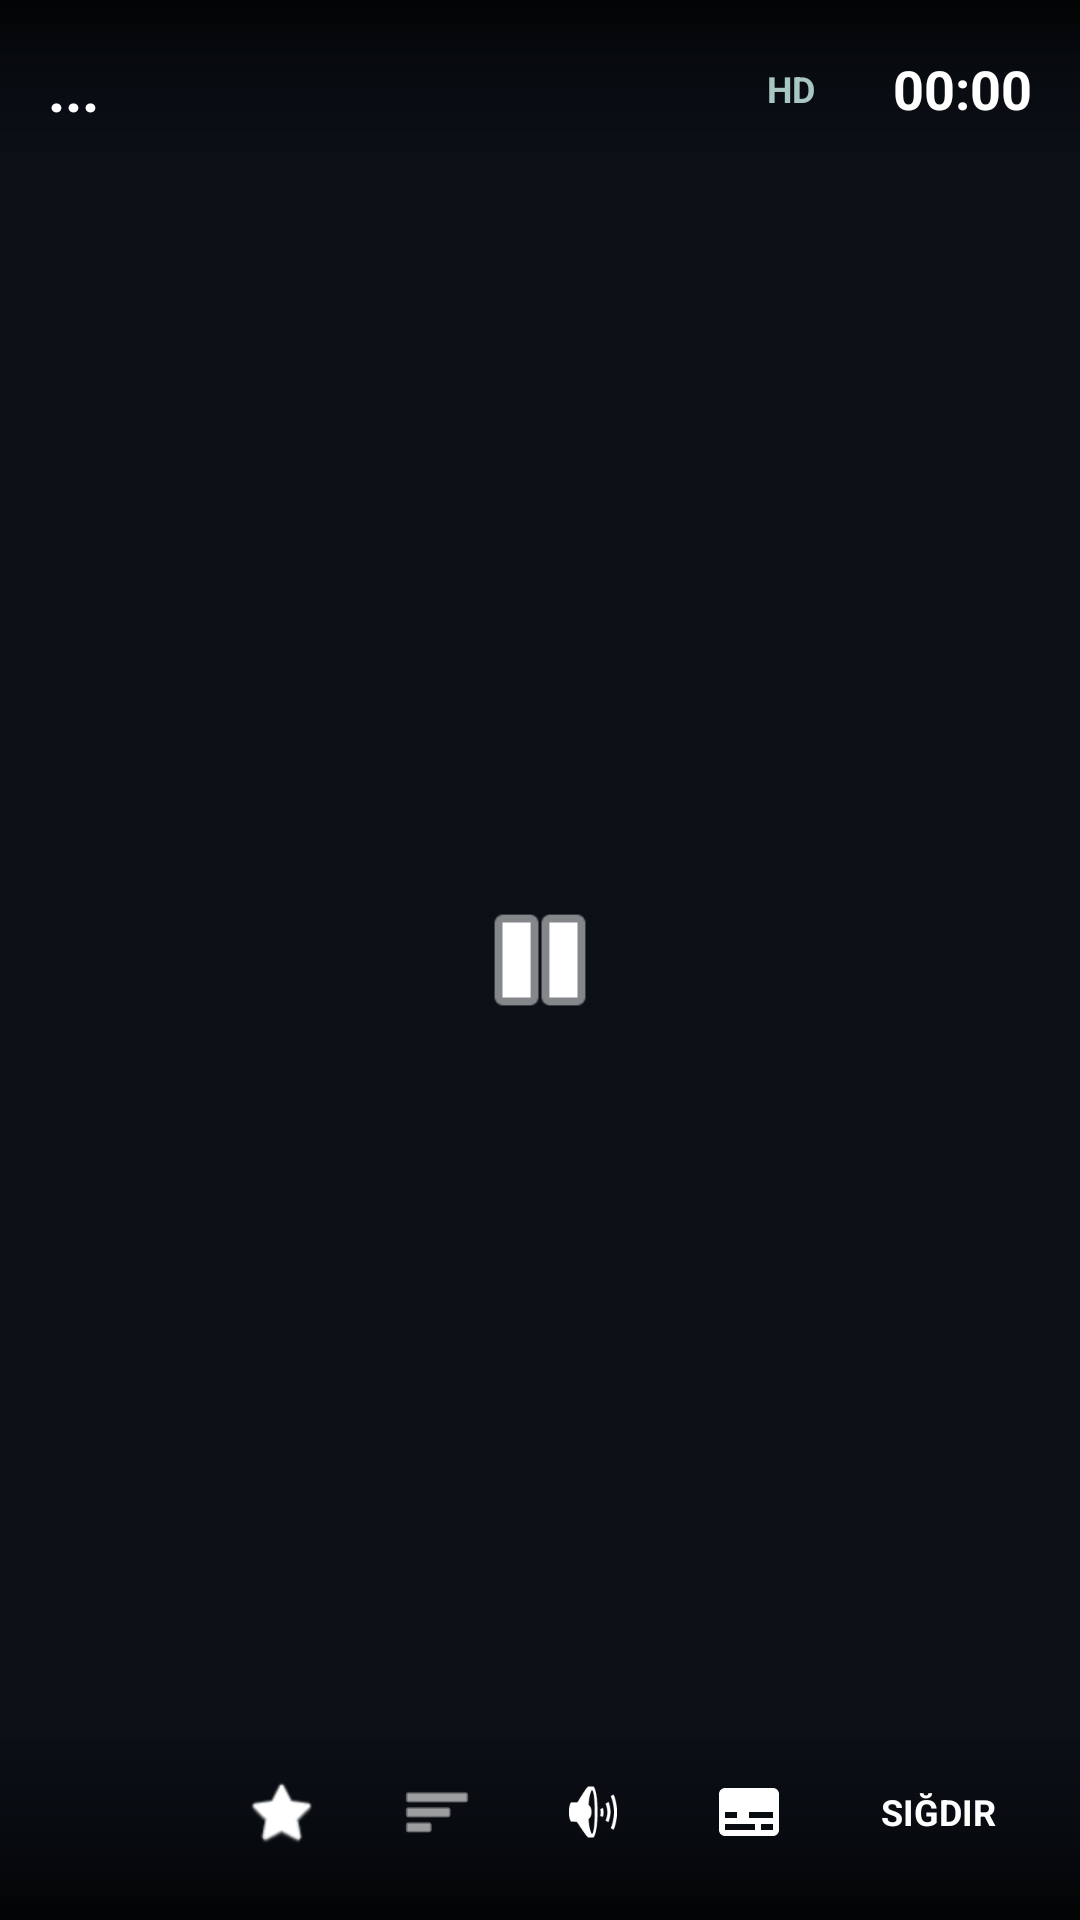

Screen size 1080×1920. Icon name, then its box in pixels as bbox=(x1, y1, x2, y2):
lock silent mode off: bbox=(569, 1786, 617, 1838)
pause: bbox=(494, 914, 586, 1006)
sort by size: bbox=(406, 1792, 468, 1833)
subtitle: bbox=(719, 1788, 779, 1836)
